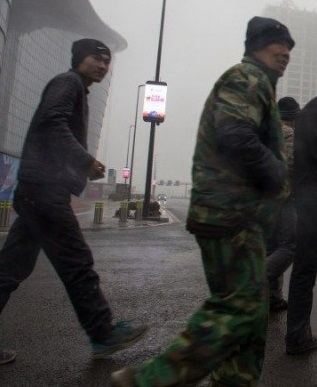person: (109, 15, 299, 387), (9, 36, 154, 359), (285, 89, 317, 358), (264, 92, 297, 314)
